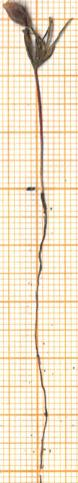flower: (0, 0, 76, 73)
root: (29, 189, 51, 472)
stem: (31, 71, 49, 192)
